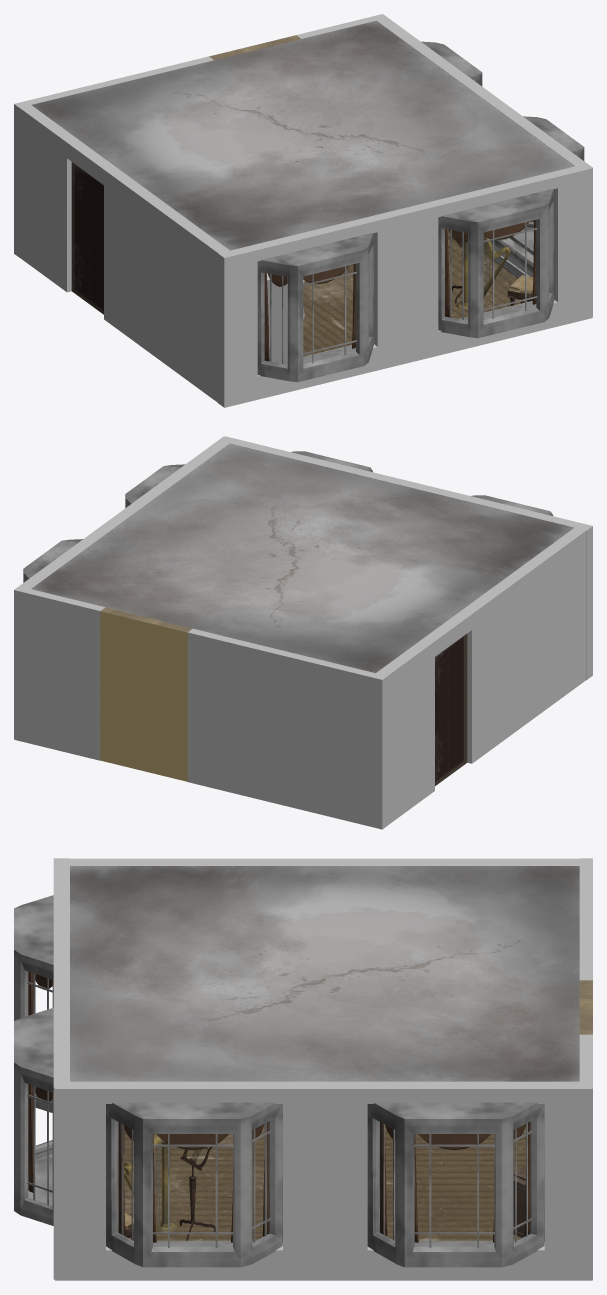
Rendered from musicRoom_spencer.fbx.
3 views of the same model, one above another, from view 1: azimuth 30°, elevation 25°; view 2: azimuth 150°, elevation 25°; view 3: azimuth 270°, elevation 25° (orthographic). The views are drawn at different scales.
Visible parts, largest first — view 1: ceiling, wall04, wall01, window (×4), floor, polySurface19, wall03, wall02, polySurface22, harp, frame02, harp_stool (+1 smaller); view 2: ceiling, wall02, wall01, pasted__wall, polySurface19, wall04, wall03, window (×2); view 3: ceiling, wall03, window (×4), floor, wall01, wall04, wall02, polySurface4 (×2), harp, music_sheet_cabinet, music_stand, pasted__wall (+1 smaller).
Boxes of the visible parts, x1=… form: ceiling: x1=32, y1=21, x2=574, y2=250; wall04: x1=218, y1=164, x2=591, y2=407; wall01: x1=15, y1=101, x2=235, y2=402; window (×4): x1=257, y1=41, x2=584, y2=382; floor: x1=303, y1=229, x2=532, y2=356; polySurface19: x1=71, y1=162, x2=103, y2=314; wall03: x1=372, y1=14, x2=592, y2=317; wall02: x1=14, y1=14, x2=385, y2=257; polySurface22: x1=267, y1=282, x2=287, y2=362; harp: x1=455, y1=235, x2=510, y2=309; frame02: x1=489, y1=238, x2=533, y2=272; harp_stool: x1=507, y1=275, x2=533, y2=305; ceiling: x1=31, y1=443, x2=573, y2=673; wall02: x1=15, y1=586, x2=387, y2=829; wall01: x1=371, y1=523, x2=591, y2=825; pasted__wall: x1=100, y1=607, x2=192, y2=781; polySurface19: x1=435, y1=633, x2=467, y2=785; wall04: x1=221, y1=436, x2=592, y2=680; wall03: x1=14, y1=436, x2=234, y2=739; window (×2): x1=23, y1=464, x2=184, y2=582; ceiling: x1=70, y1=866, x2=579, y2=1081; wall03: x1=55, y1=1081, x2=592, y2=1280; window (×4): x1=14, y1=895, x2=544, y2=1267; floor: x1=123, y1=1124, x2=526, y2=1240; wall01: x1=55, y1=858, x2=592, y2=865; wall04: x1=53, y1=858, x2=69, y2=1279; wall02: x1=579, y1=858, x2=592, y2=1279; polySurface4 (×2): x1=156, y1=1134, x2=490, y2=1150; harp: x1=123, y1=1134, x2=177, y2=1232; music_sheet_cabinet: x1=513, y1=1166, x2=526, y2=1237; music_stand: x1=179, y1=1147, x2=215, y2=1240; pasted__wall: x1=579, y1=980, x2=592, y2=1034.
Bounding box in the file's own units: 6954 × 2528 × 6899.
